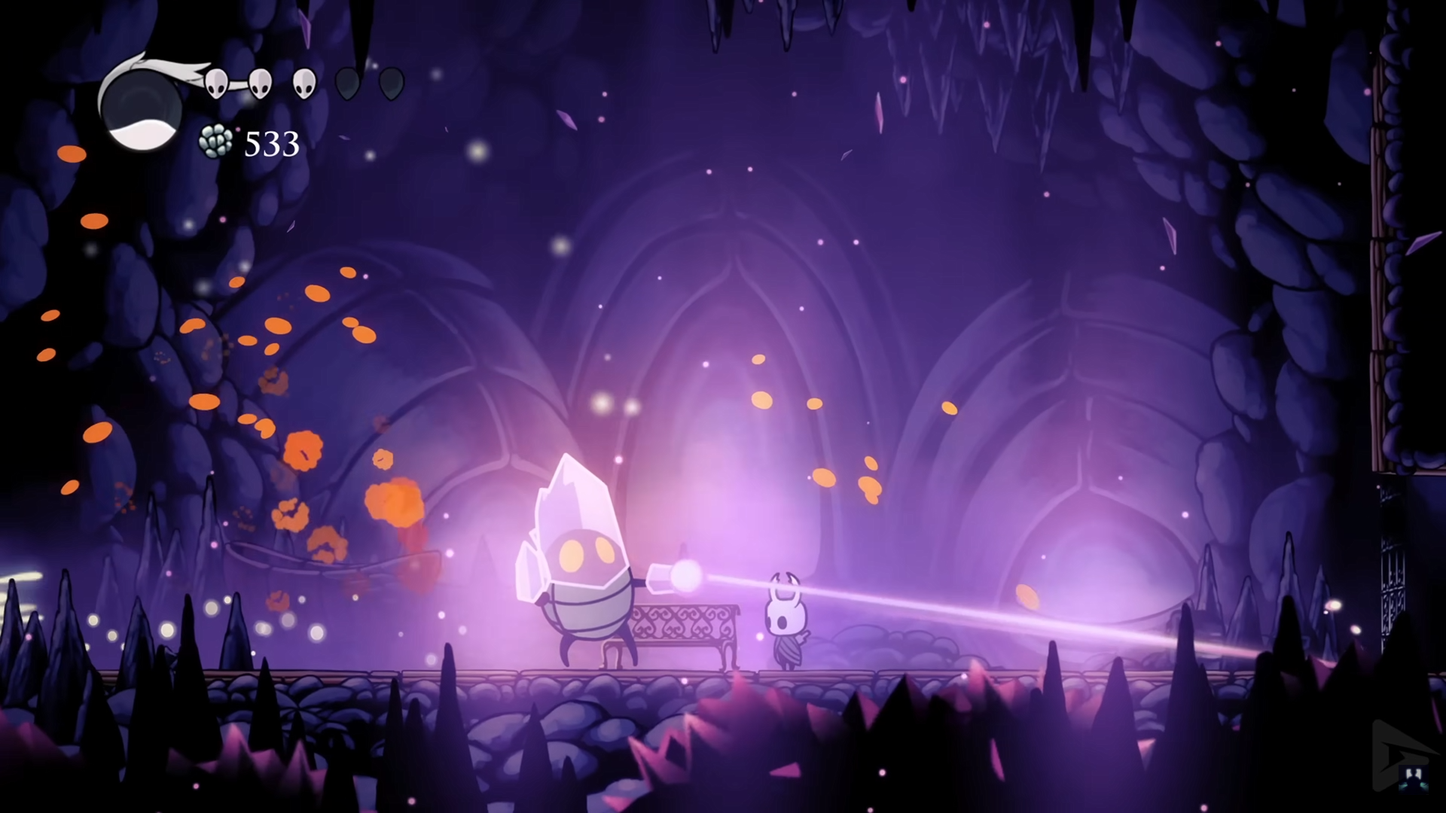HK: (761, 568, 818, 674)
